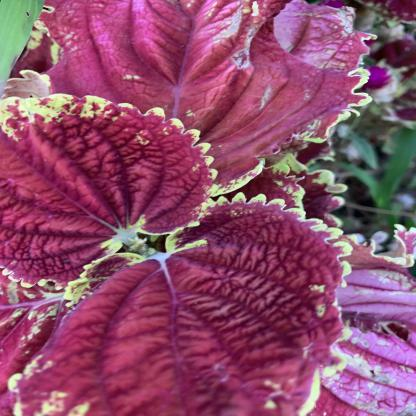Bunga Coleus: (39, 29, 397, 411)
